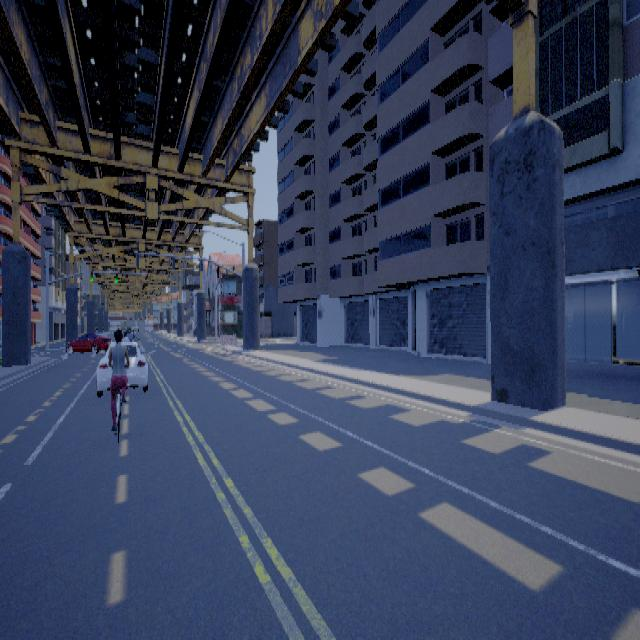green_light: (117, 271, 119, 281), (92, 271, 94, 281)
vehicle: (93, 323, 149, 394)
